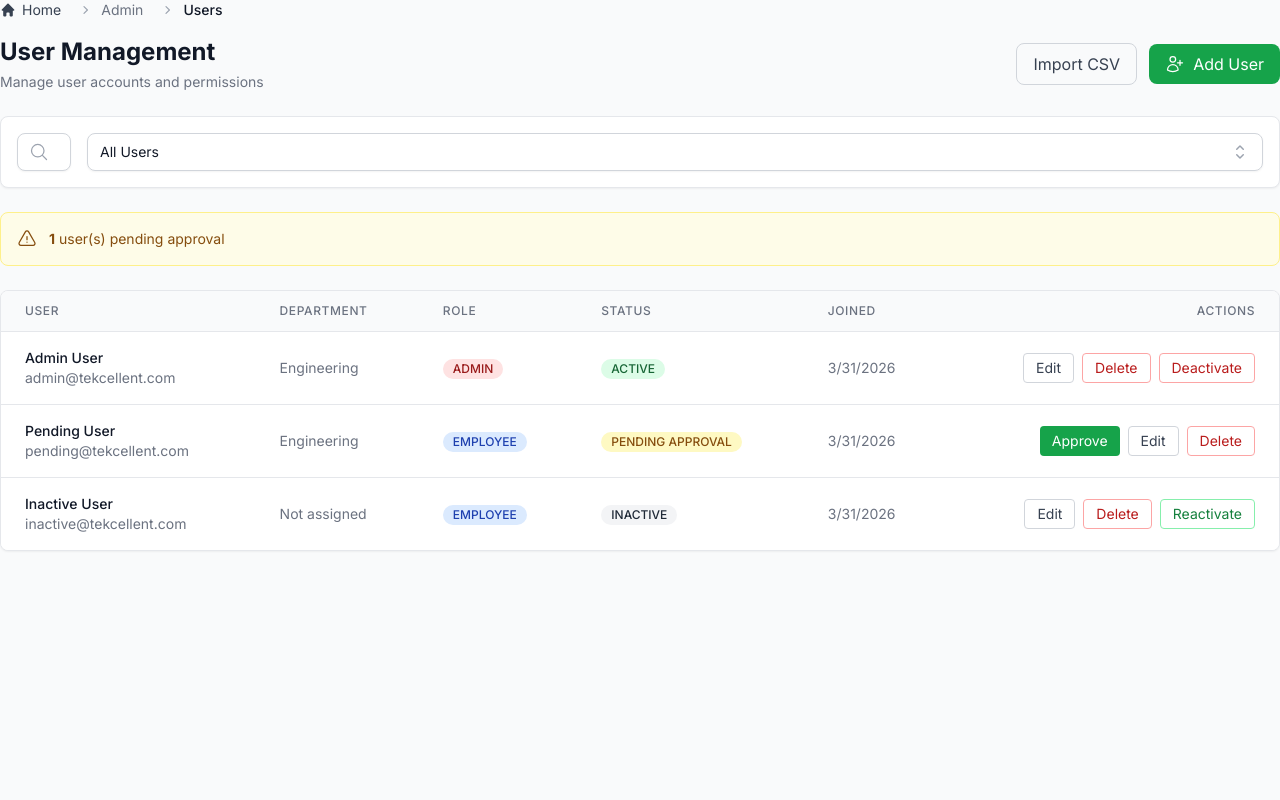
Test: UsersPage › Create User Modal › should open create user modal when Add User is clicked
Click the button "Add User": point(1215, 64) [1149,44,1279,84]
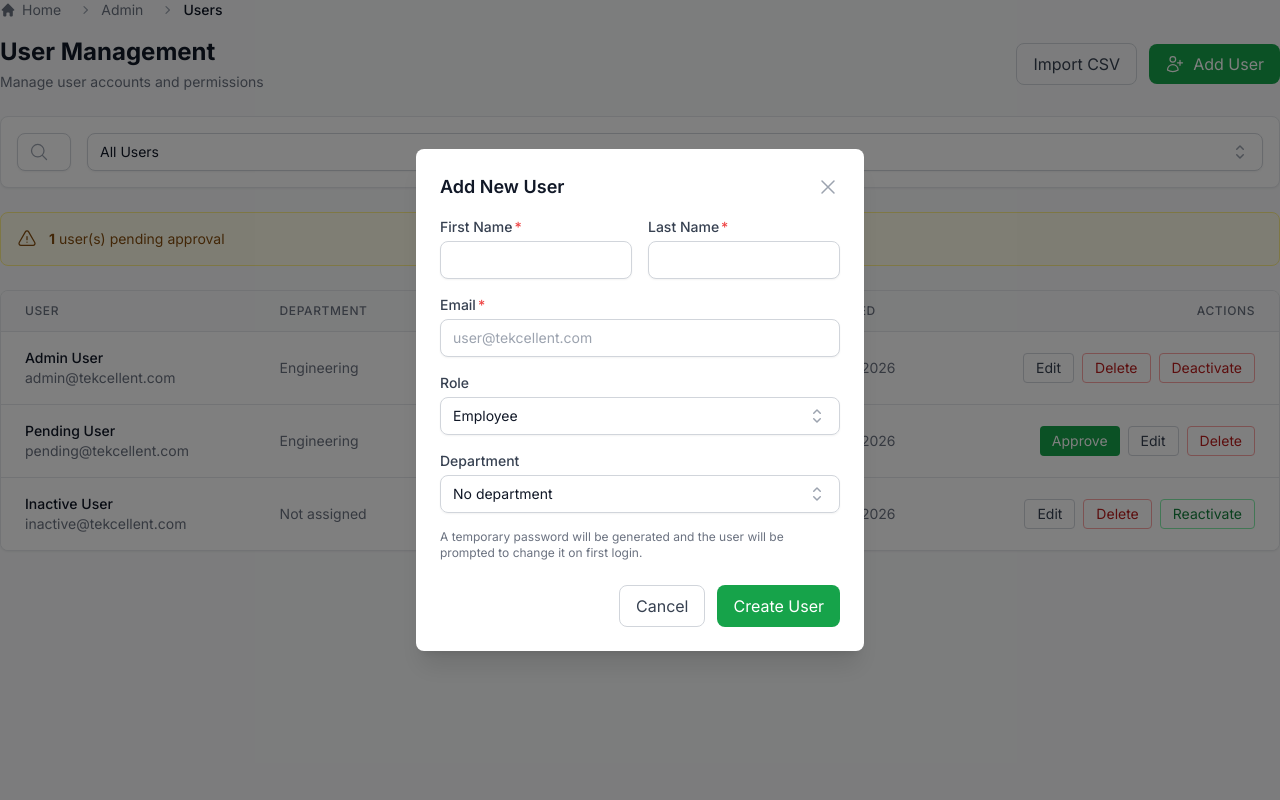
expect the heading "Add New User" is shown: met, box [440,173,564,201]
